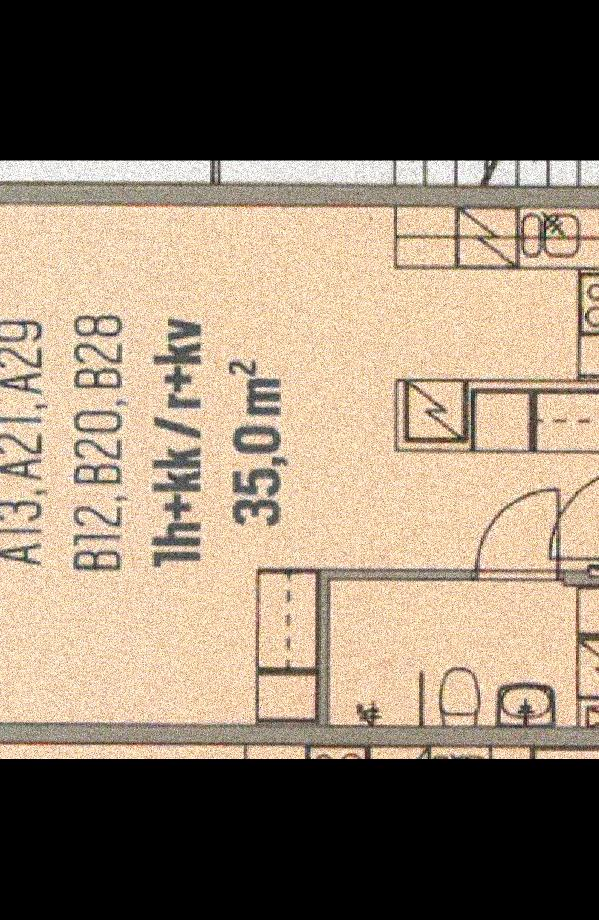door: (472, 475, 568, 586), (544, 460, 599, 565)
zone: (0, 211, 599, 716), (323, 589, 599, 721)
